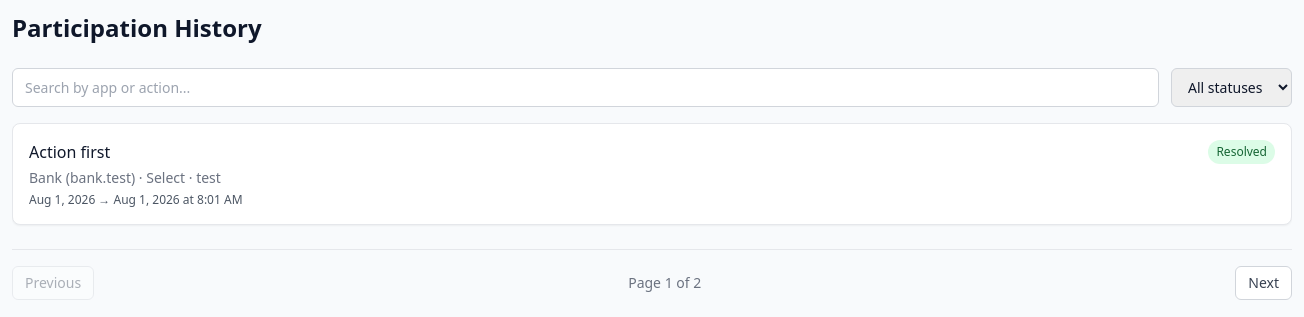
History › History_PaginatesAndRefetchesTheSelectedPage
Check: the text "Action first" is shown, box 29,141 -> 110,163
Click the button "Next": (1264, 283) 1235,266 -> 1292,300
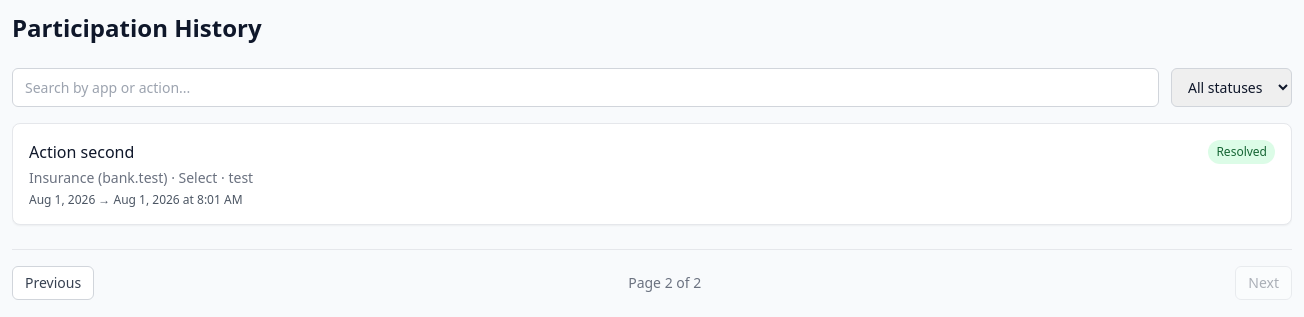
Check: the text "Action second" is shown, box 29,141 -> 134,163
